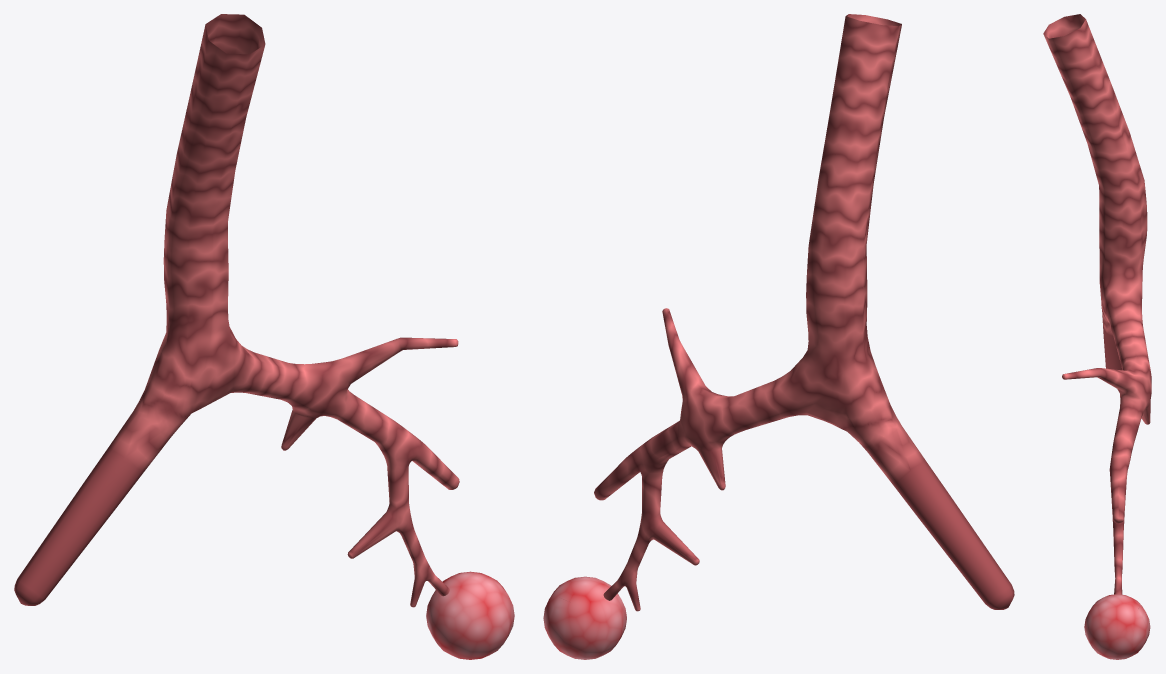
Rendered from trachea_and_bronchioles7(baked_camera).fbx.
3 renders of one model, left to right at view 1: azimuth 30°, elevation 25°; view 2: azimuth 150°, elevation 25°; view 3: azimuth 270°, elevation 25°, orthographic. The views are drawn at different scales.
Visible parts, largest first — view 1: trachea_bronchioles, Alveolus; view 2: trachea_bronchioles, Alveolus; view 3: trachea_bronchioles, Alveolus.
Part boxes in pixels (bbox=[...]): trachea_bronchioles: bbox=[14, 14, 459, 607]; Alveolus: bbox=[426, 571, 514, 659]; trachea_bronchioles: bbox=[594, 14, 1014, 611]; Alveolus: bbox=[543, 576, 626, 659]; trachea_bronchioles: bbox=[1043, 14, 1151, 594]; Alveolus: bbox=[1084, 594, 1150, 659].
Bounding box in the file's own units: 24.74 × 34.75 × 6.33.
